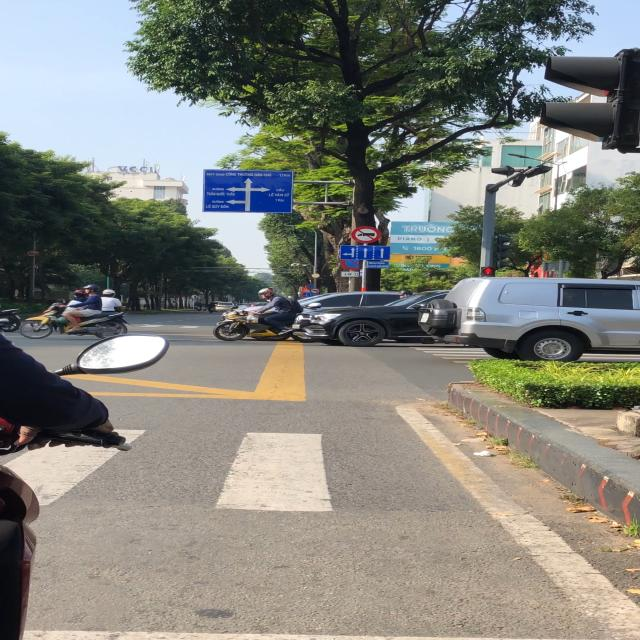Bien bao cam xe so-mi ro-mooc: (350, 225, 385, 245)
